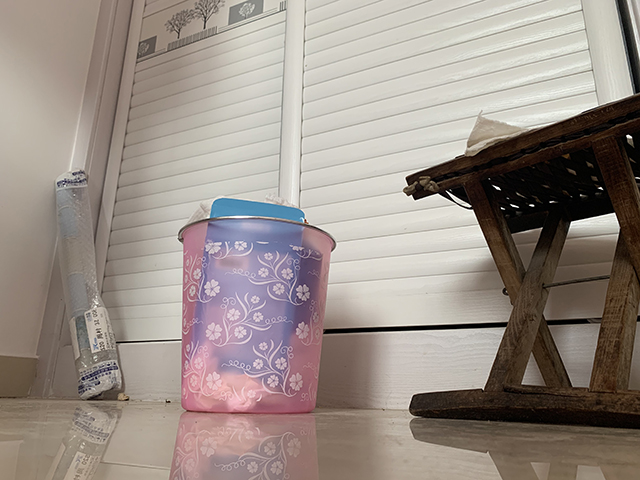cabinet: (26, 1, 639, 414)
stool: (403, 93, 640, 432)
trashcan: (176, 215, 338, 414)
